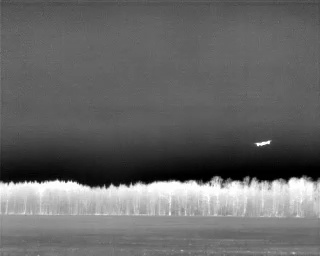DRONE: (251, 134, 276, 151)
